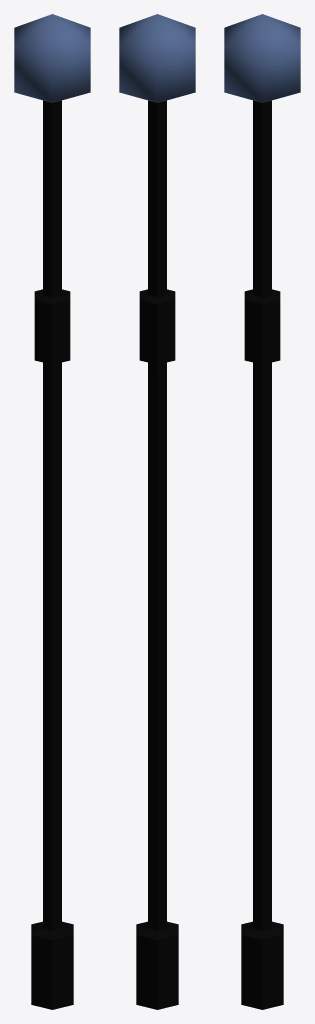
The model's file is LampPole_Long_Blue.fbx.
The picture shows the model from 3 angles, left to right: view 1: azimuth 90°, elevation 25°; view 2: azimuth 150°, elevation 25°; view 3: azimuth 270°, elevation 25°; orthographic projection.
Parts seen in each view (by area): view 1: LampPole_Long_Blue; view 2: LampPole_Long_Blue; view 3: LampPole_Long_Blue.
Boxes of the visible parts, bbox=[...] form: LampPole_Long_Blue: bbox=[14, 14, 90, 1009]; LampPole_Long_Blue: bbox=[119, 14, 195, 1009]; LampPole_Long_Blue: bbox=[224, 14, 300, 1009].
Size of the model in its own units: 16.11 by 199 by 13.95.
